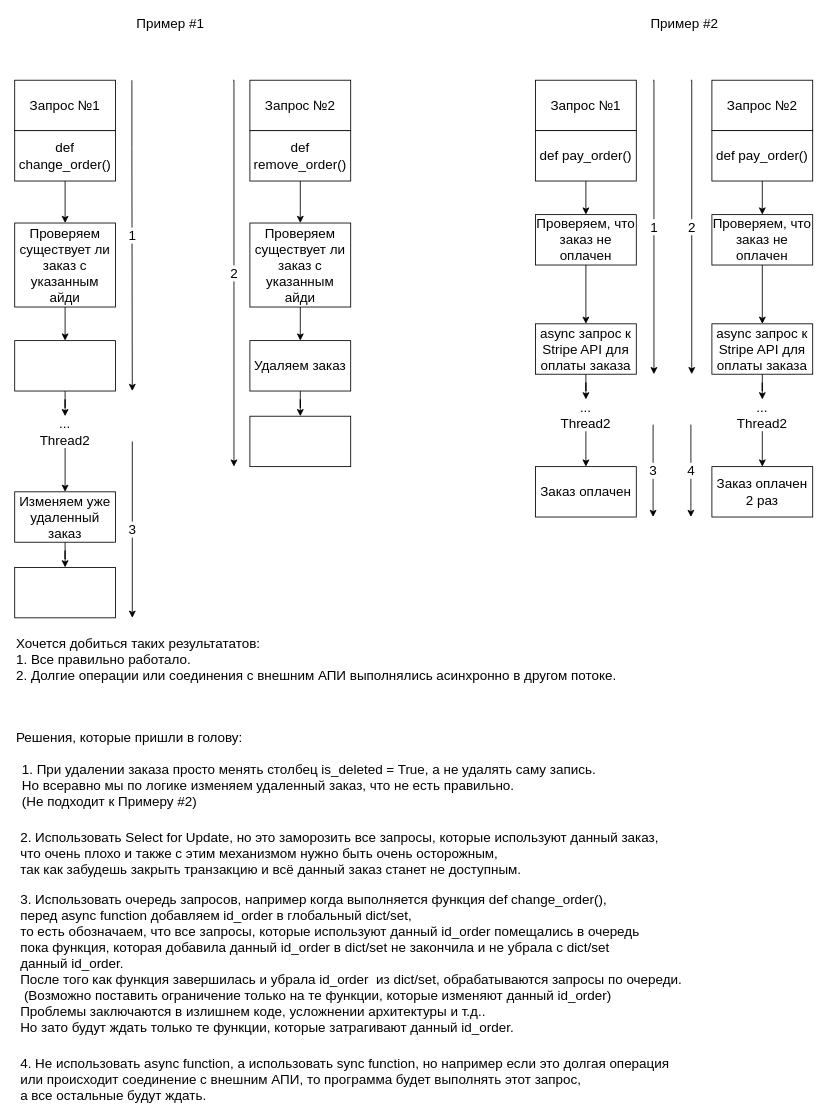
The diagram is 827 pixels wide and 1119 high, and some of its shapes have lost their labels. The centre of each missing label's shape, as x and y in pixels:
async function: pixel 65 365
Возвращаем ответ: pixel 300 441
Ошибка: pixel 65 592
